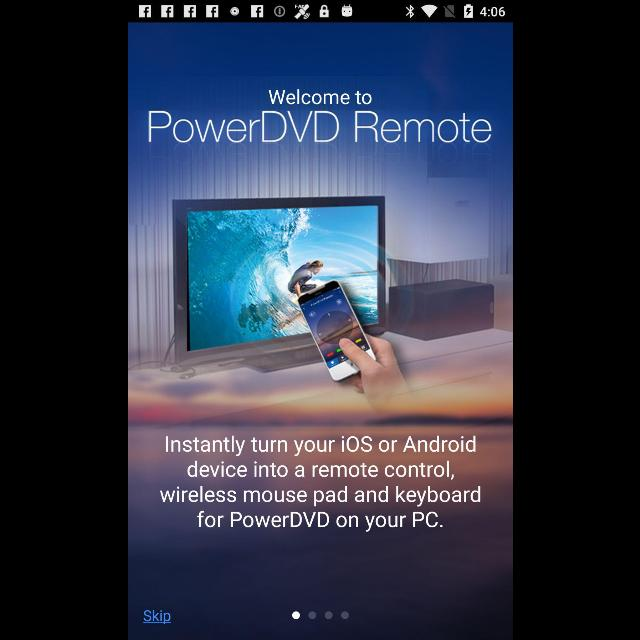backgroundimage: (128, 22, 512, 640)
pageindicator: (291, 610, 349, 620)
text: (158, 436, 480, 532), (147, 110, 491, 144), (267, 89, 371, 105), (142, 610, 170, 624)
uppertaskbar: (128, 1, 512, 23)
